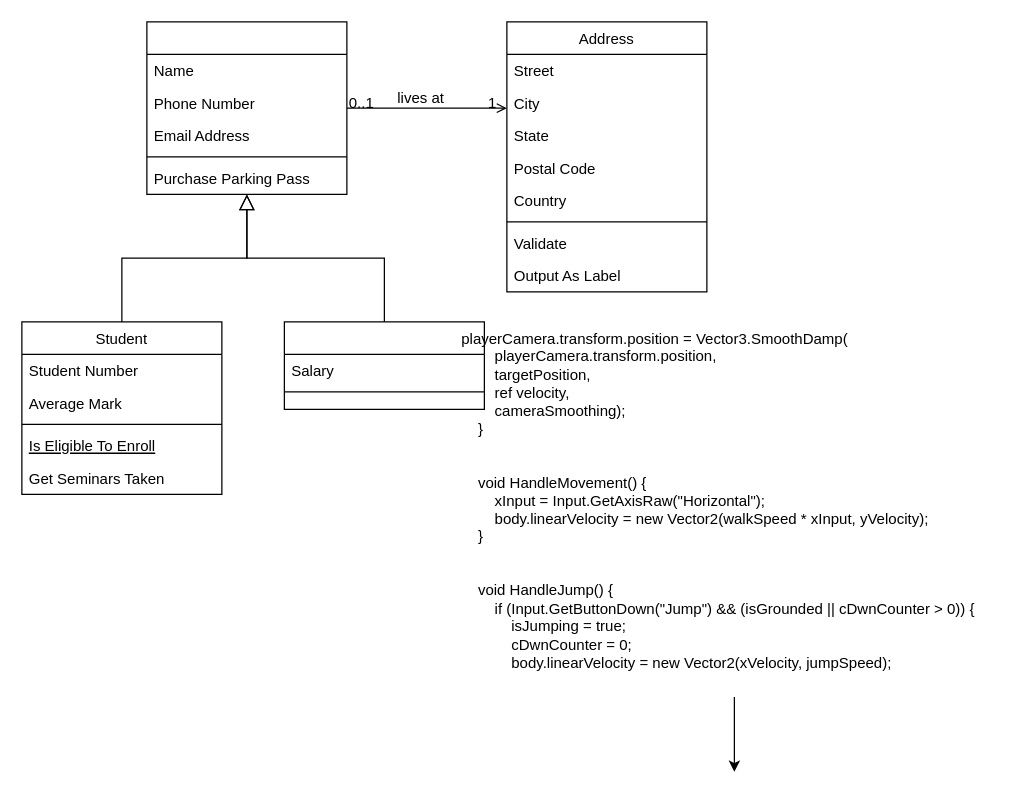
The diagram is 1031 pixels wide and 804 high, and some of its shapes have lost their labels. The box of each missing label's shape, as (x1, y1, x2, y2) in pixels:
Person: (146, 21, 347, 194)
Professor: (283, 321, 484, 409)
